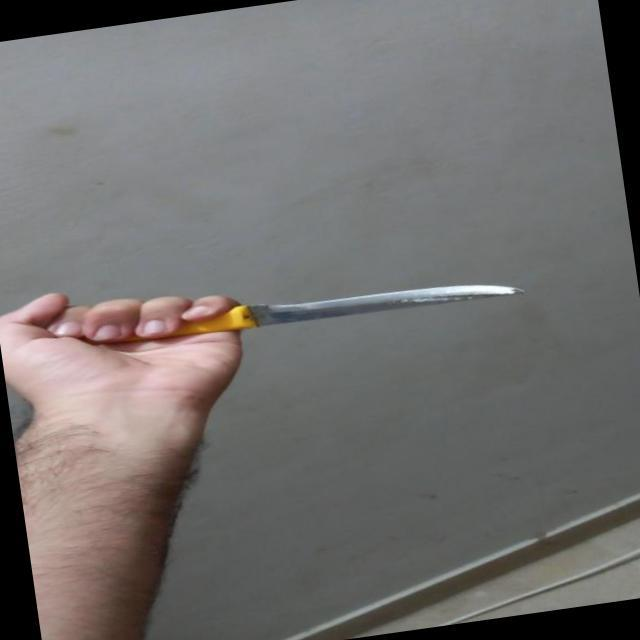Knife: (1, 224, 534, 415)
